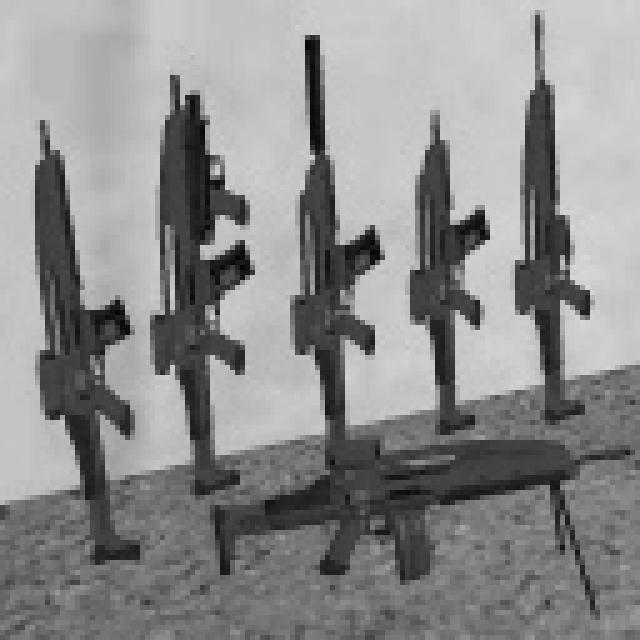Rifle: (142, 385, 640, 624), (115, 44, 301, 550), (0, 90, 166, 611), (241, 8, 411, 481), (471, 0, 639, 438), (377, 78, 515, 484)
